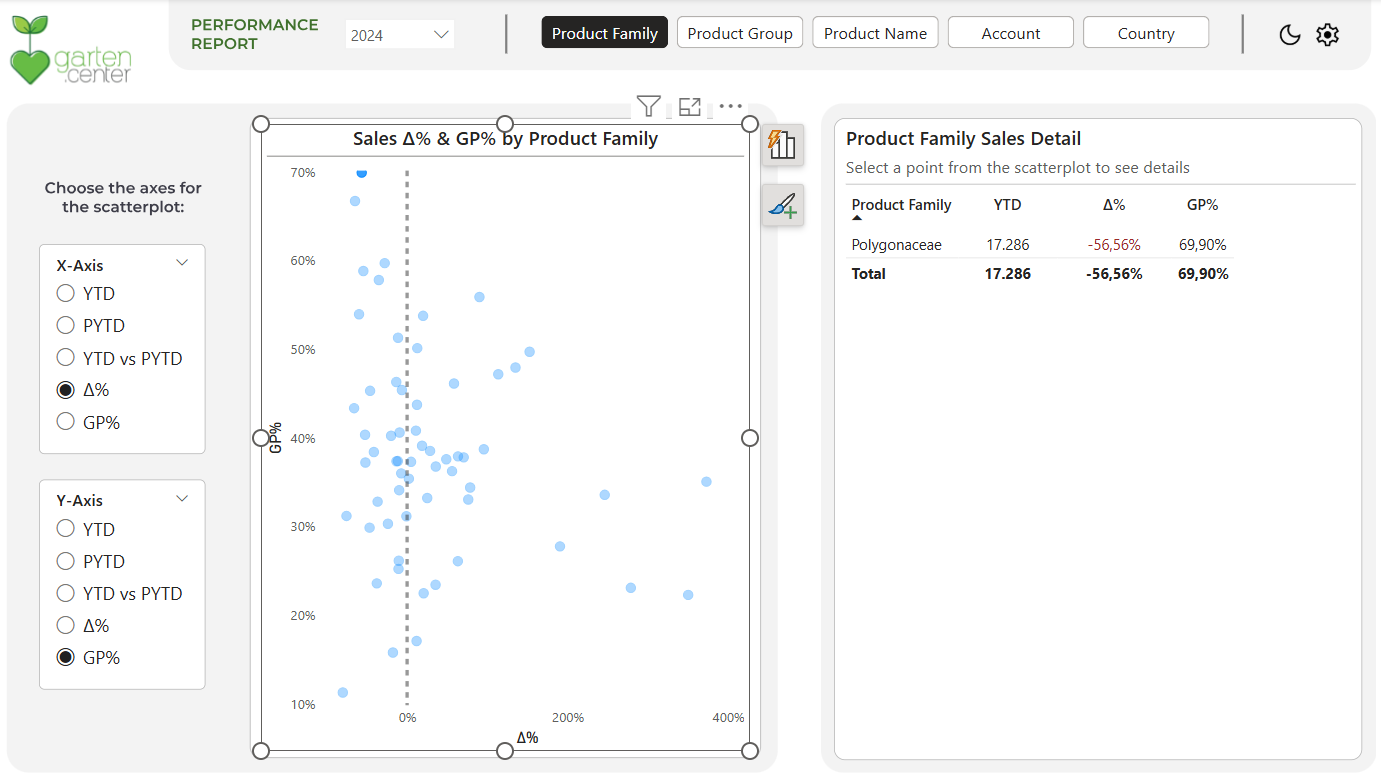

Layout of this report page (visuals, bound fields, positions):
{"tool":"powerbi","page":{"name":"Sales Analyzer","canvas":[1280,720],"ordinal":6},"visuals":[{"type":"slicer","fields":{"Values":["Dim_Date.Year"]},"box":[325,13.5,109.5,35.1],"z":0},{"type":"scatterChart","fields":{"Category":["Dim_Product.Product_Family"],"X":["_Measures.∆%"],"Y":["_Measures.GP%"]},"box":[254.1,113,440.7,565],"z":2000},{"type":"shape","box":[471.5,14.9,6.8,35.1],"z":3000},{"type":"shape","box":[1135.4,14.9,6.8,35.1],"z":4000},{"type":"image","box":[1164.3,14,35.1,39.2],"z":5000},{"type":"image","box":[1197.5,13.8,35,39],"z":6000},{"type":"pivotTable","fields":{"Rows":["Dim_Product.Product_Family"],"Values":["_Measures.YTD","_Measures.∆%","_Measures.GP%"]},"box":[770.5,108.1,475.8,578.5],"z":7000},{"type":"advancedSlicerVisual","fields":{"Values":["prmProductAll.prmProductAll"]},"box":[506.9,16.2,602.9,29.7],"z":8000},{"type":"slicer","fields":{"Values":["prmX-Axis.prmX-Axis"]},"box":[54.1,221.7,150,189.2],"z":9000},{"type":"slicer","fields":{"Values":["prmY-Axis.prmY-Axis"]},"box":[54.1,433.9,150,189],"z":10000}]}

Visuals, with their boxes on the page's 1280x720 design canvas (x1, y1, x2, y2). These are canvas units, not pixel positions in the 1381x781 screenshot, which may show the page scaled, cropped or inside an application window:
slicer - Dim_Date.Year: (325,14,434,49)
scatterChart - Dim_Product.Product_Family x _Measures.∆%: (254,113,695,678)
shape: (472,15,478,50)
shape: (1135,15,1142,50)
image: (1164,14,1199,53)
image: (1198,14,1232,53)
pivotTable - Dim_Product.Product_Family x _Measures.YTD: (770,108,1246,687)
advancedSlicerVisual - prmProductAll.prmProductAll: (507,16,1110,46)
slicer - prmX-Axis.prmX-Axis: (54,222,204,411)
slicer - prmY-Axis.prmY-Axis: (54,434,204,623)
